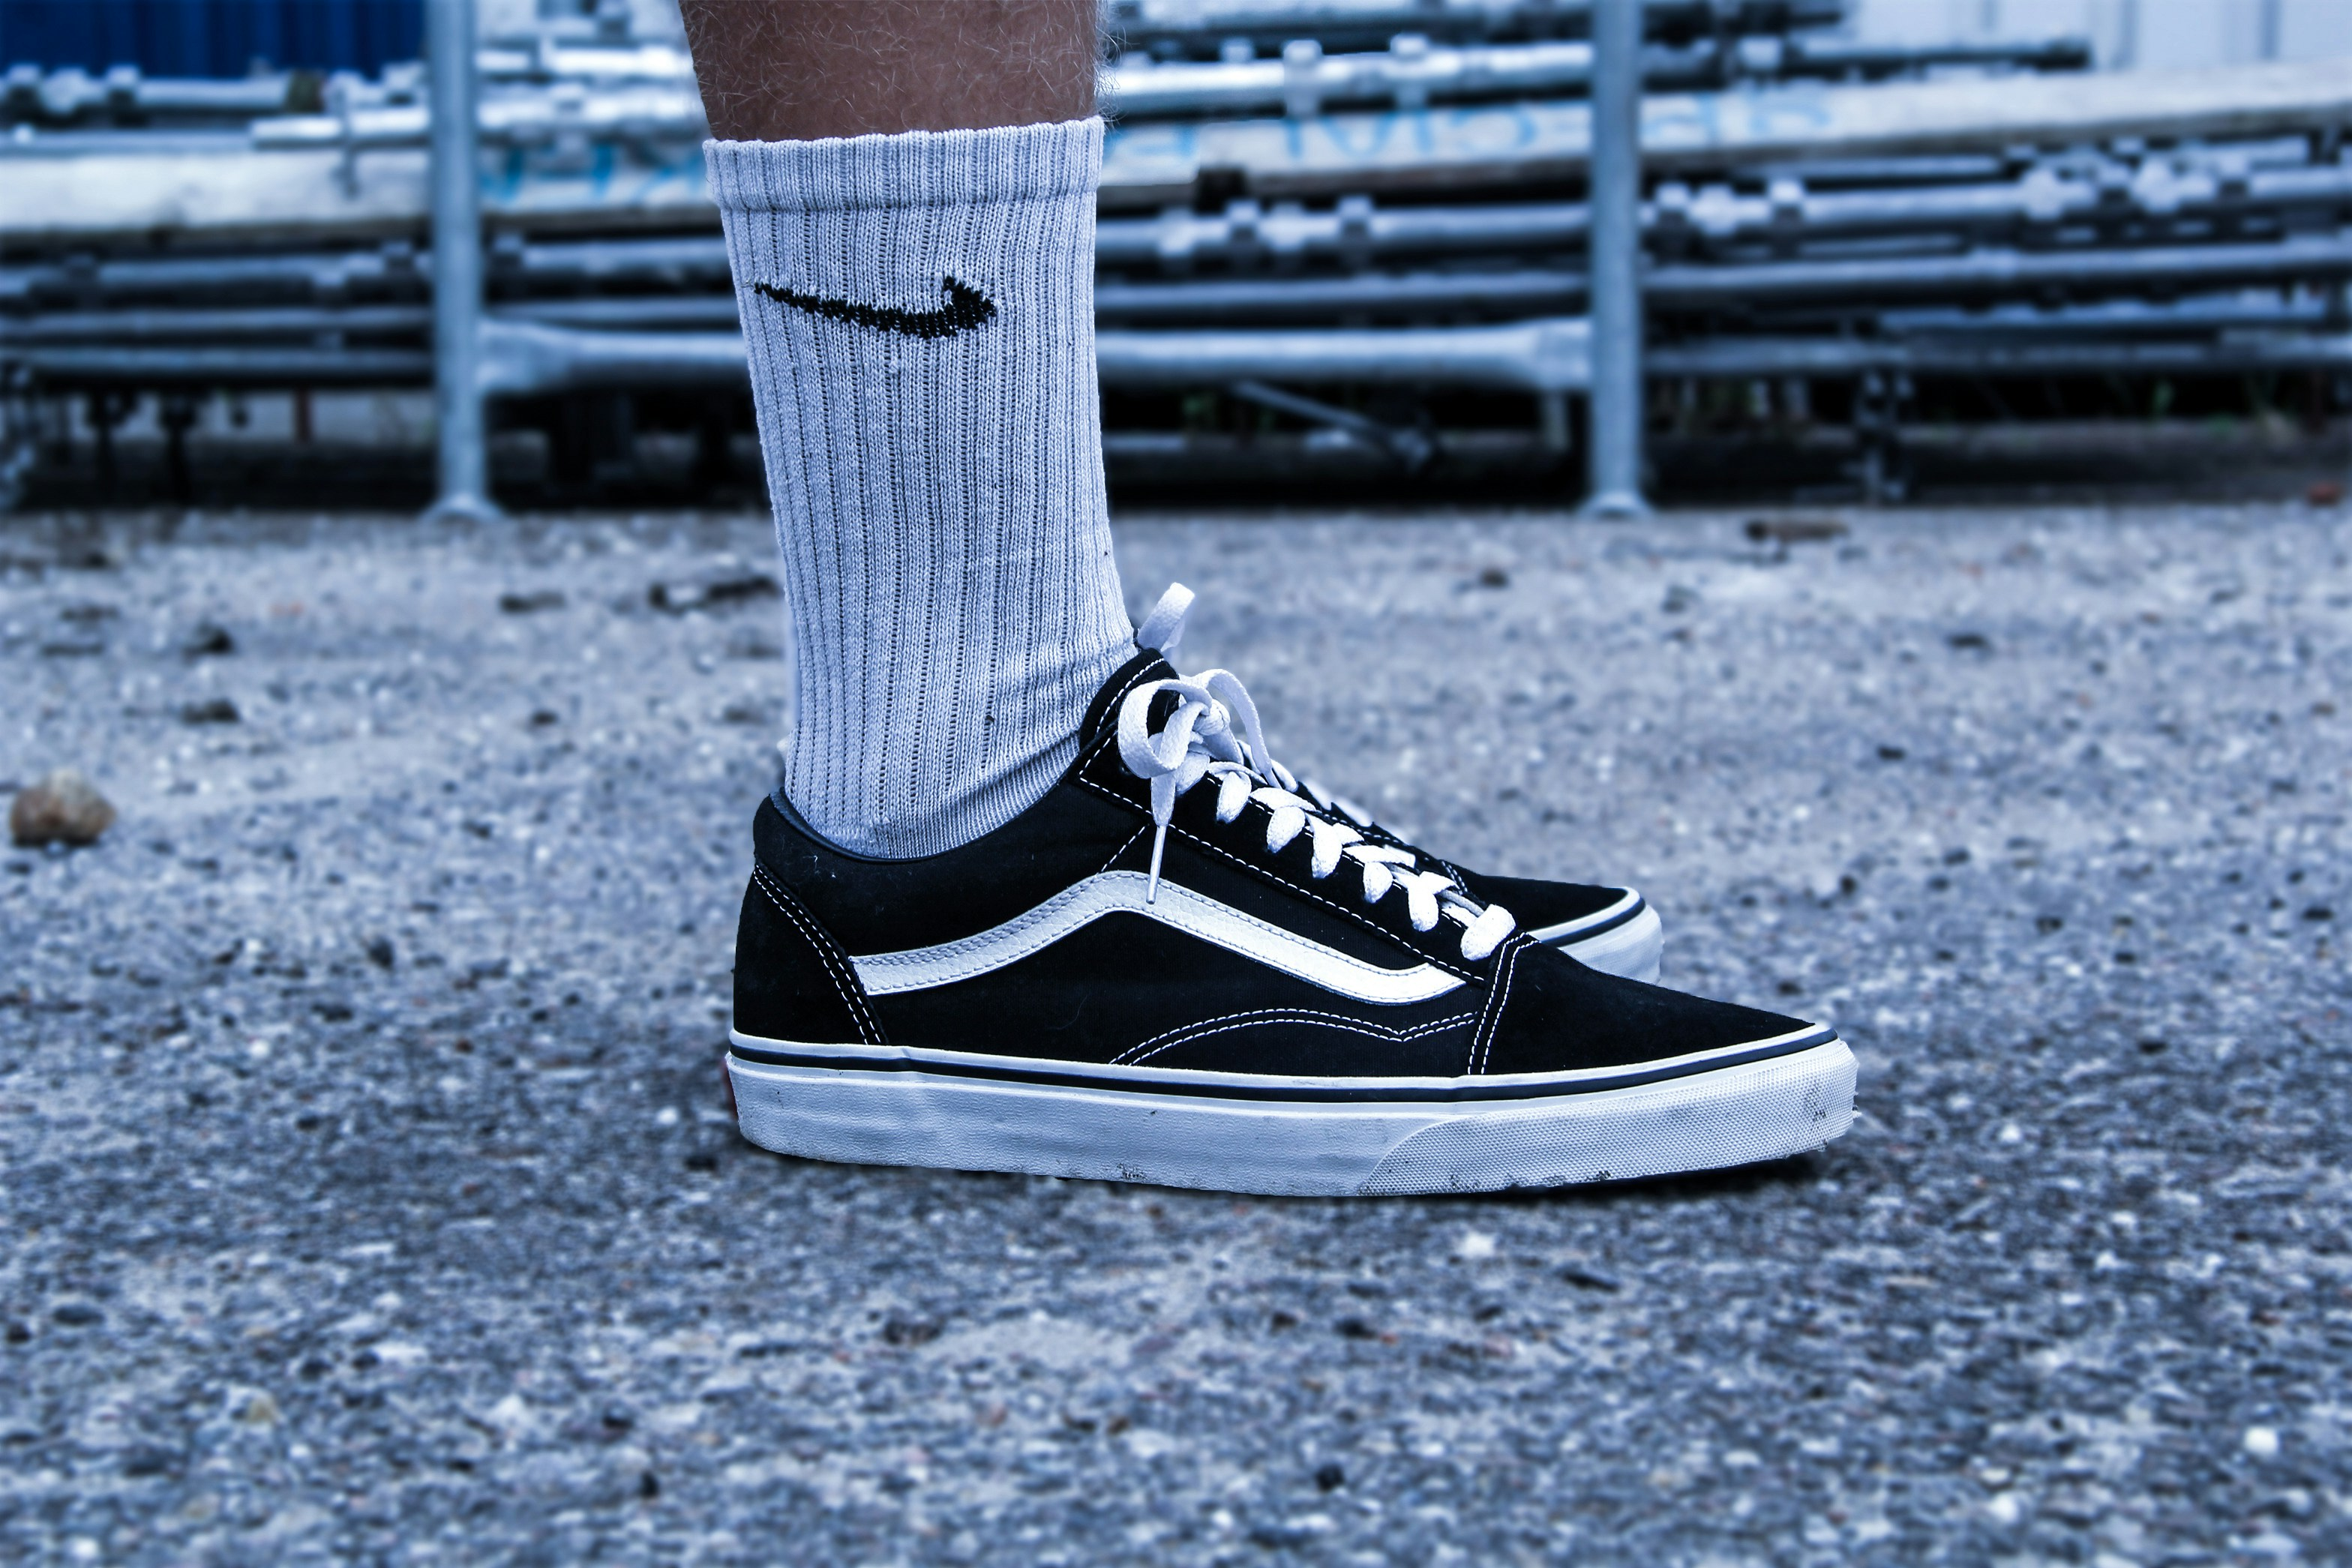Footwear: (700, 693, 1876, 1206)
